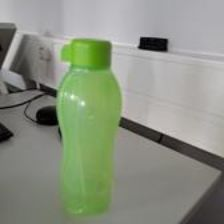bottle: (53, 34, 126, 217)
